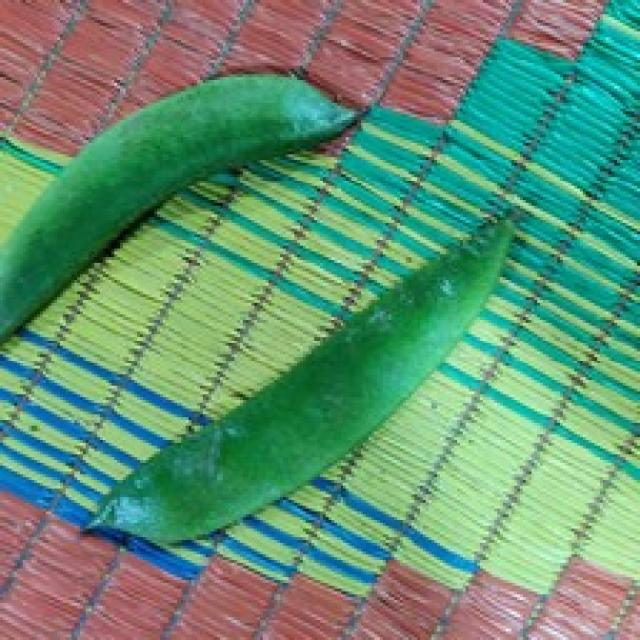Bean: (80, 206, 514, 548), (0, 74, 355, 310)
